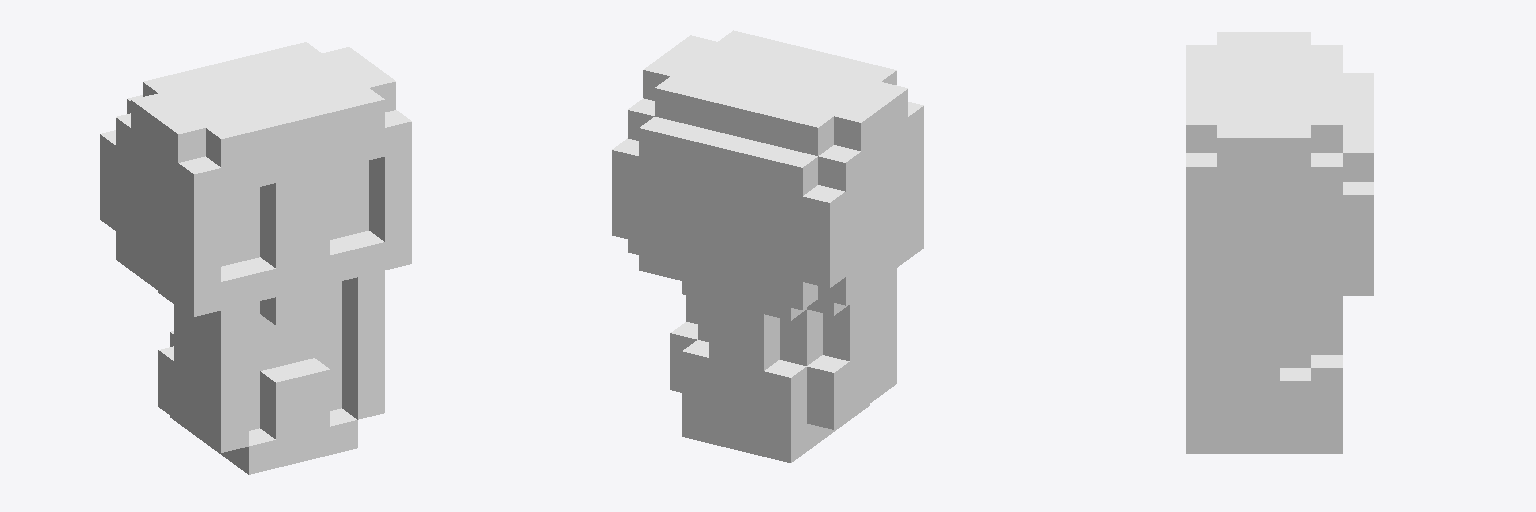
Rendered from SkullOpenMouth.obj.
3 views of the same model, side by side, from view 1: azimuth 30°, elevation 25°; view 2: azimuth 150°, elevation 25°; view 3: azimuth 270°, elevation 25° (orthographic).
Visible parts, largest first — view 1: SkullOpenMouth; view 2: SkullOpenMouth; view 3: SkullOpenMouth.
Boxes of the visible parts, x1=… form: SkullOpenMouth: x1=100, y1=42, x2=411, y2=474; SkullOpenMouth: x1=612, y1=30, x2=923, y2=462; SkullOpenMouth: x1=1186, y1=32, x2=1373, y2=453.
Bounding box in the file's own units: 8 × 12 × 6.